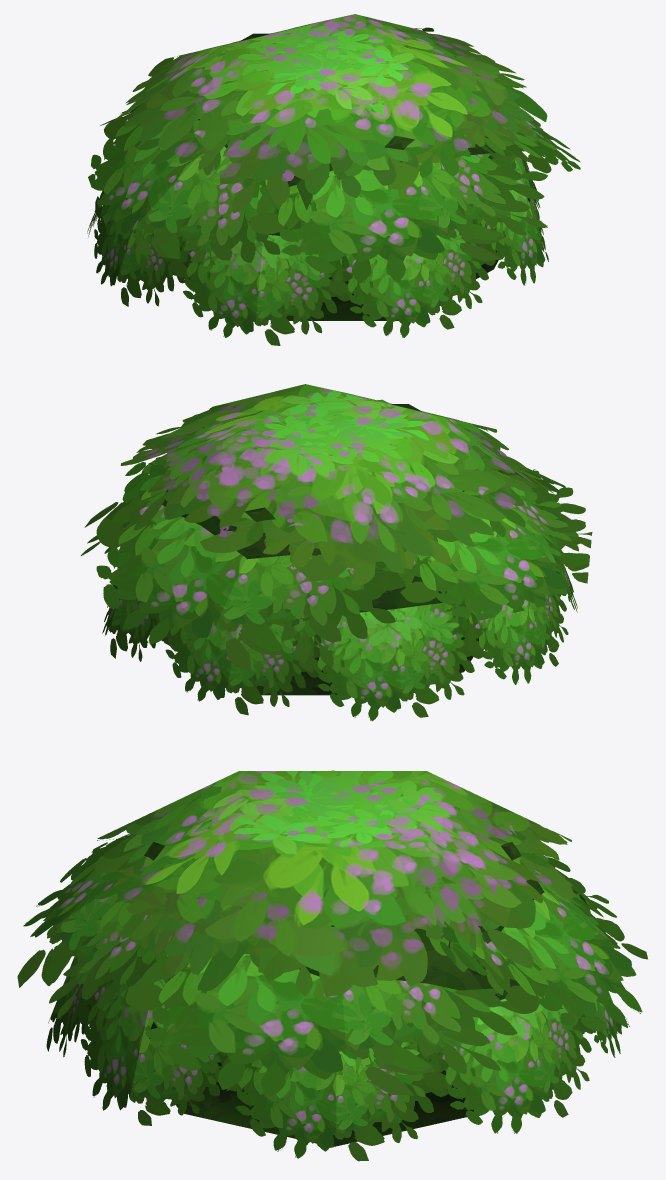
File: lilac_00.fbx
The picture shows the model from 3 angles, top to bottom: view 1: azimuth 30°, elevation 25°; view 2: azimuth 150°, elevation 25°; view 3: azimuth 270°, elevation 25°; orthographic projection. The views are drawn at different scales.
Parts seen in each view (by area): view 1: Plane, Plane.003, Plane.009, Plane.016, Plane.011, Plane.012, Plane.015, Plane.008, Cube; view 2: Plane, Plane.002, Plane.009, Plane.014, Plane.010, Plane.012, Cube, Plane.017, Plane.008; view 3: Plane, Plane.008, Plane.002, Plane.013, Plane.017, Plane.003, Plane.015, Cube, Plane.011, Plane.010.
Boxes of the visible parts, <box> form: Plane: <box>114,14,547,213</box>; Plane.003: <box>243,101,547,283</box>; Plane.009: <box>88,113,329,264</box>; Plane.016: <box>170,235,353,345</box>; Plane.011: <box>329,229,495,337</box>; Plane.012: <box>94,190,192,306</box>; Plane.015: <box>472,156,548,285</box>; Plane.008: <box>481,119,580,173</box>; Cube: <box>184,33,530,320</box>; Plane: <box>111,384,553,585</box>; Plane.002: <box>96,462,406,671</box>; Plane.009: <box>375,469,592,620</box>; Plane.014: <box>291,600,484,721</box>; Plane.010: <box>156,616,321,715</box>; Plane.012: <box>453,571,568,684</box>; Cube: <box>162,404,504,695</box>; Plane.017: <box>102,567,166,661</box>; Plane.008: <box>81,493,138,555</box>; Plane: <box>94,771,573,996</box>; Plane.008: <box>125,945,536,1097</box>; Plane.002: <box>440,840,647,1031</box>; Plane.013: <box>215,1042,448,1161</box>; Plane.017: <box>409,995,594,1133</box>; Plane.003: <box>17,819,212,1019</box>; Plane.015: <box>76,978,227,1125</box>; Cube: <box>144,770,544,1146</box>; Plane.011: <box>46,955,91,1057</box>; Plane.010: <box>579,991,621,1057</box>.
Size of the model in its own units: 320 by 142 by 317.
